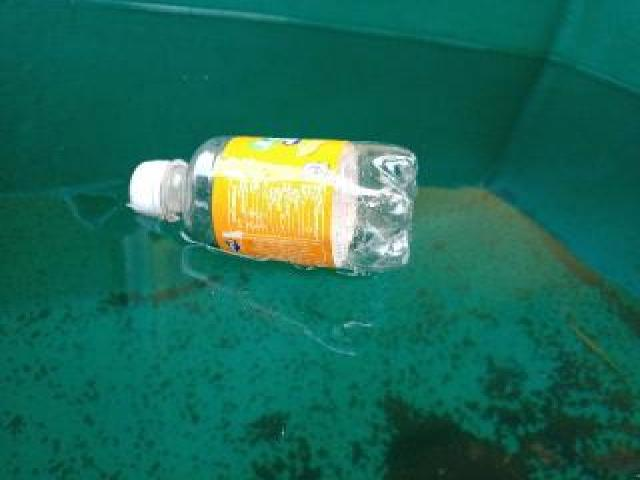Bottle: (125, 134, 417, 276)
